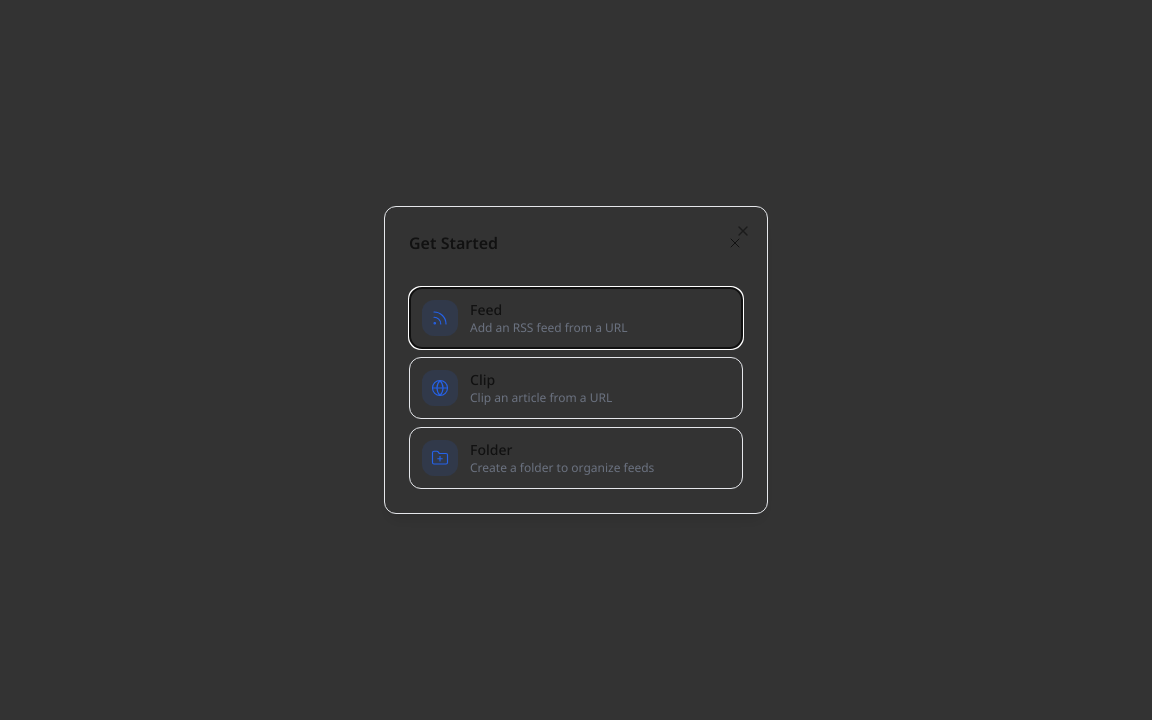
Test case: FeedModal › navigates to article clip step on click
Step 1. Click the text "Clip an article from a URL" → [541, 398], box top-left (470, 390), bottom-right (612, 406)
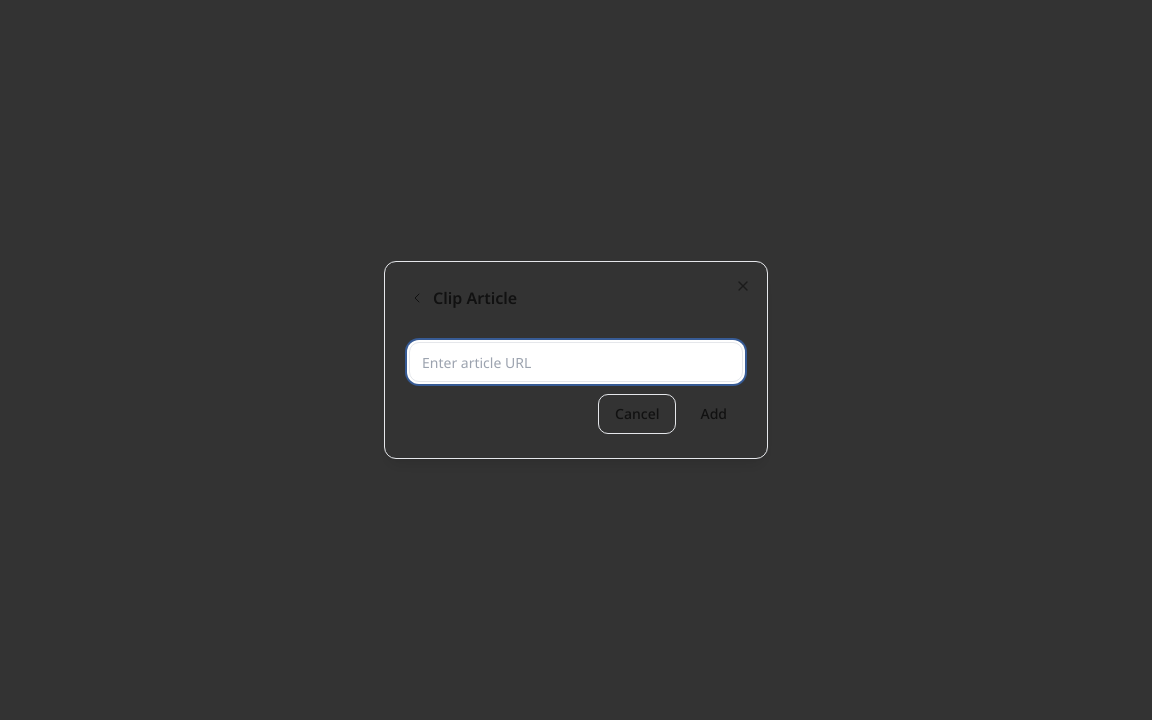
Expected: the heading "Clip Article" is shown, top-left (433, 286), bottom-right (517, 310)
